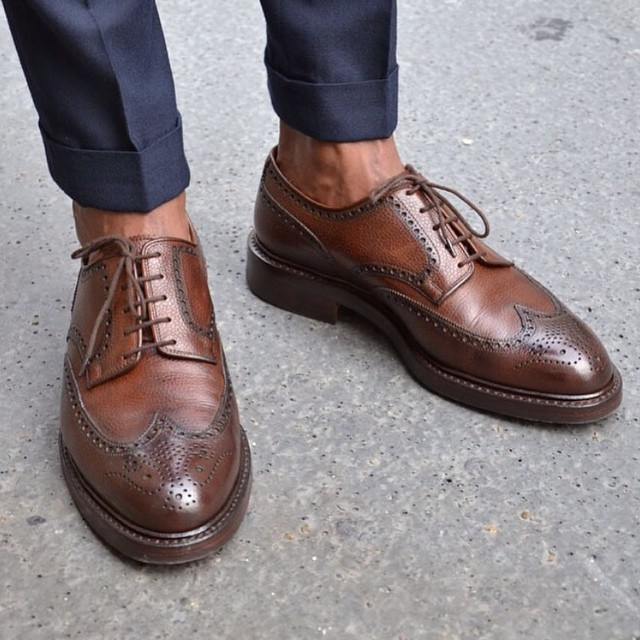sneaker: (224, 105, 640, 445), (21, 169, 281, 591)
